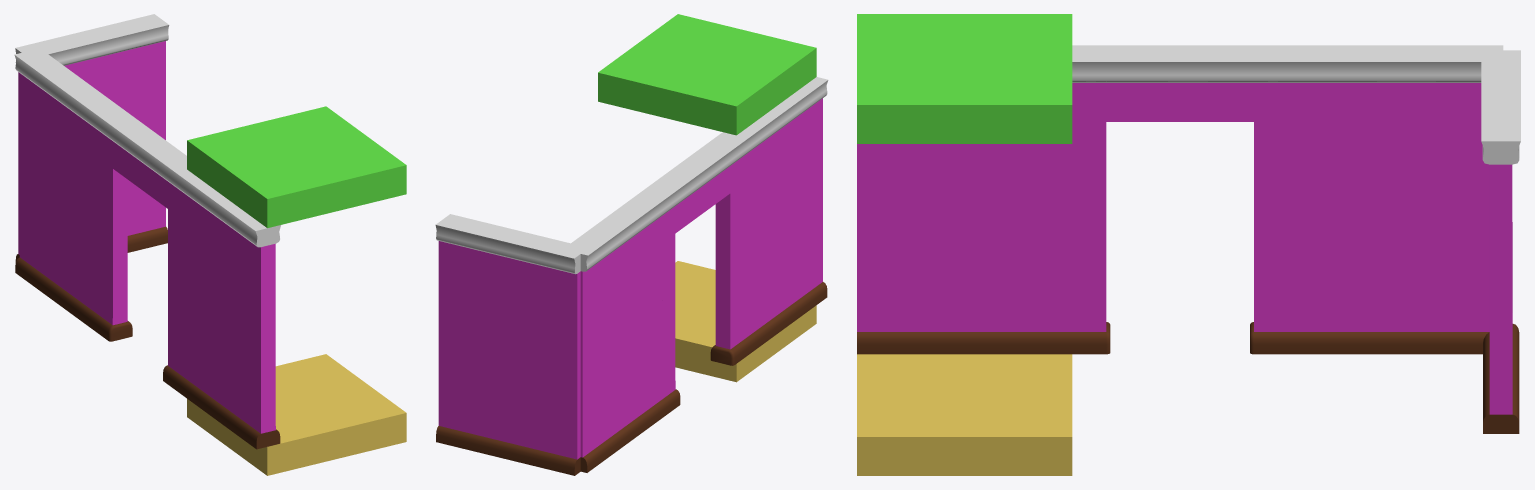
The model's file is museum_blockout_3D.fbx.
The picture shows the model from 3 angles, left to right: view 1: azimuth 30°, elevation 25°; view 2: azimuth 150°, elevation 25°; view 3: azimuth 270°, elevation 25°; orthographic projection. The views are drawn at different scales.
Parts seen in each view (by area): view 1: Plane.004, Plane.002, Cube.001, Cube.008, Plane.003; view 2: Plane.004, Plane.002, Cube.001, Plane.003, Cube.008; view 3: Plane.004, Plane.002, Plane.003, Cube.001, Cube.008.
Boxes of the visible parts, x1=… form: Plane.004: x1=14, y1=14, x2=169, y2=331; Plane.002: x1=175, y1=169, x2=280, y2=449; Cube.001: x1=187, y1=106, x2=406, y2=228; Cube.008: x1=187, y1=354, x2=406, y2=475; Plane.003: x1=95, y1=107, x2=186, y2=390; Plane.004: x1=435, y1=191, x2=667, y2=475; Plane.002: x1=737, y1=77, x2=828, y2=355; Cube.001: x1=598, y1=14, x2=816, y2=135; Plane.003: x1=643, y1=132, x2=748, y2=413; Cube.008: x1=675, y1=261, x2=816, y2=382; Plane.004: x1=1288, y1=45, x2=1520, y2=433; Plane.002: x1=857, y1=144, x2=1072, y2=354; Plane.003: x1=1072, y1=45, x2=1287, y2=354; Cube.001: x1=857, y1=14, x2=1072, y2=143; Cube.008: x1=857, y1=354, x2=1072, y2=475.
Size of the model in its own units: 434 by 760 by 1233.
